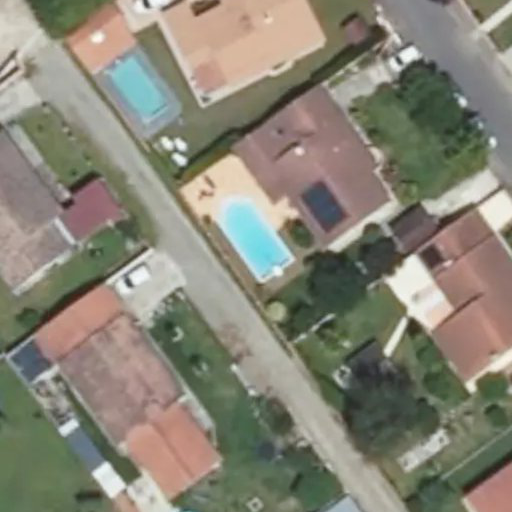pool: (217, 217, 288, 259)
